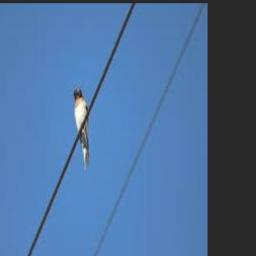Swallow: (73, 87, 91, 169)
